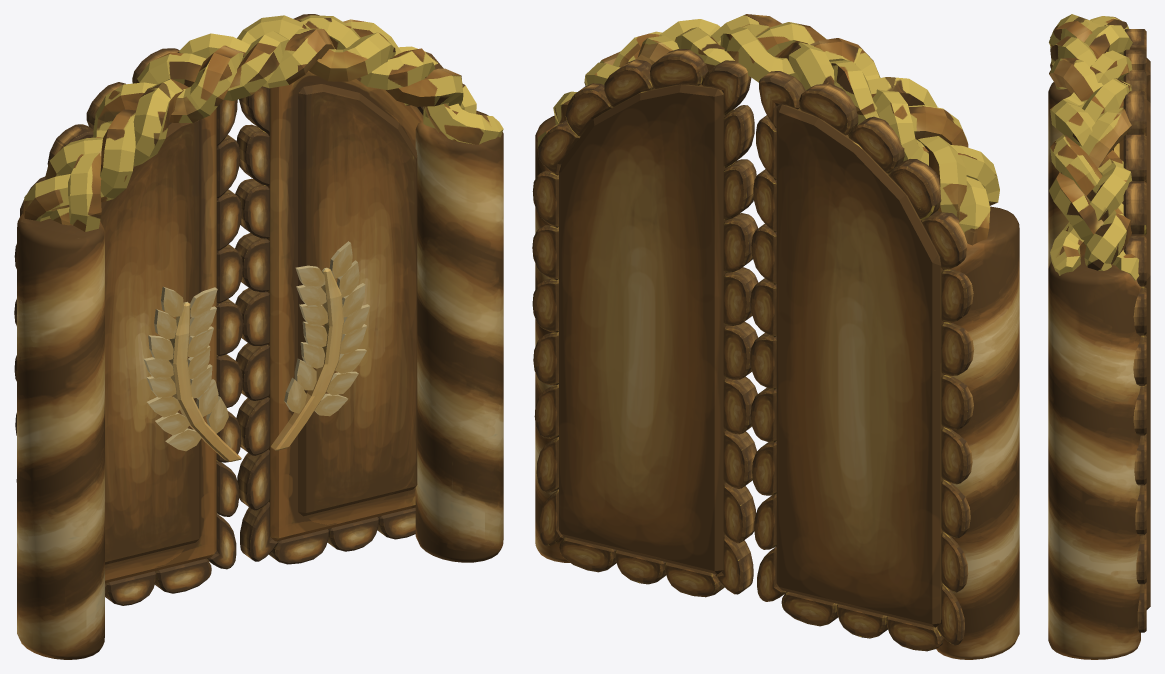
Rendered from gate With Texture.fbx.
3 views of the same model, side by side, from view 1: azimuth 30°, elevation 25°; view 2: azimuth 150°, elevation 25°; view 3: azimuth 270°, elevation 25° (orthographic). The views are drawn at different scales.
Parts seen in each view (by area): view 1: Door.001, Door, Cylinder, Cylinder.001, TwistBread, Ridges.001, Ridges, Wheat Leaves.001, Wheat Leaves, Handle.001, Handle; view 2: Door, Door.001, Ridges.001, Ridges, Cylinder, TwistBread, Cylinder.001; view 3: Cylinder.001, TwistBread, Ridges.001, Door.001, Cylinder, Ridges, Door.
Boxes of the visible parts, left/top/right/bottom form: Door.001: left=266, top=71, right=423, bottom=541; Door: left=100, top=108, right=216, bottom=583; Cylinder: left=17, top=213, right=104, bottom=659; Cylinder.001: left=415, top=110, right=503, bottom=562; TwistBread: left=22, top=15, right=503, bottom=231; Ridges.001: left=235, top=14, right=423, bottom=564; Ridges: left=14, top=48, right=243, bottom=605; Wheat Leaves.001: left=284, top=241, right=369, bottom=416; Wheat Leaves: left=143, top=286, right=228, bottom=451; Handle.001: left=271, top=267, right=343, bottom=450; Handle: left=169, top=301, right=241, bottom=461; Door: left=776, top=104, right=943, bottom=627; Door.001: left=559, top=84, right=733, bottom=574; Ridges.001: left=532, top=49, right=758, bottom=597; Ridges: left=750, top=71, right=974, bottom=651; Cylinder: left=936, top=206, right=1019, bottom=659; TwistBread: left=537, top=14, right=999, bottom=245; Cylinder.001: left=535, top=115, right=569, bottom=562; Cylinder.001: left=1048, top=252, right=1140, bottom=659; TwistBread: left=1049, top=14, right=1139, bottom=280; Ridges.001: left=1123, top=70, right=1146, bottom=632; Door.001: left=1113, top=100, right=1150, bottom=609; Cylinder: left=1048, top=82, right=1070, bottom=268; Ridges: left=1123, top=29, right=1146, bottom=72; Door: left=1123, top=58, right=1150, bottom=102.
Size of the model in its own units: 713 by 821 by 148.
